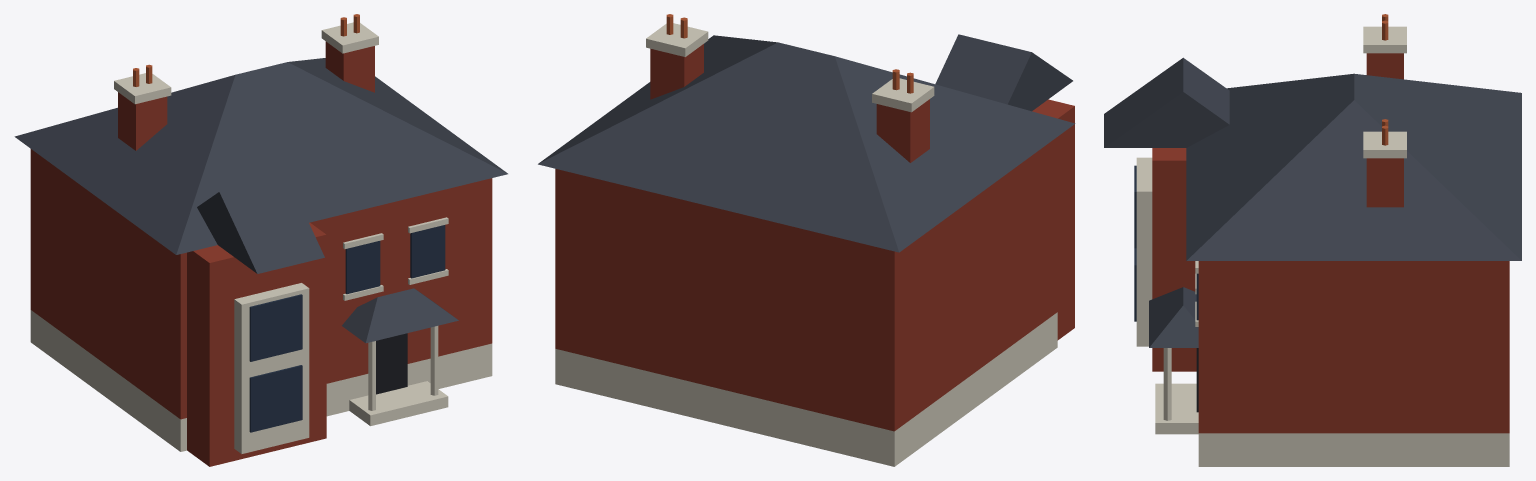
Rendered from building_london_s1_redbrick_villa.glb.
3 views of the same model, side by side, from view 1: azimuth 30°, elevation 25°; view 2: azimuth 150°, elevation 25°; view 3: azimuth 270°, elevation 25° (orthographic). The views are drawn at different scales.
Parts seen in each view (by area): view 1: building_london_s1_redbrick_villa; view 2: building_london_s1_redbrick_villa; view 3: building_london_s1_redbrick_villa.
Part boxes in pixels (x1=…): building_london_s1_redbrick_villa: x1=14, y1=14, x2=507, y2=466; building_london_s1_redbrick_villa: x1=538, y1=14, x2=1075, y2=466; building_london_s1_redbrick_villa: x1=1104, y1=14, x2=1521, y2=466.
Bounding box in the file's own units: 12.8 × 11.25 × 13.45.
Materials: 1 (1 with a texture image).
